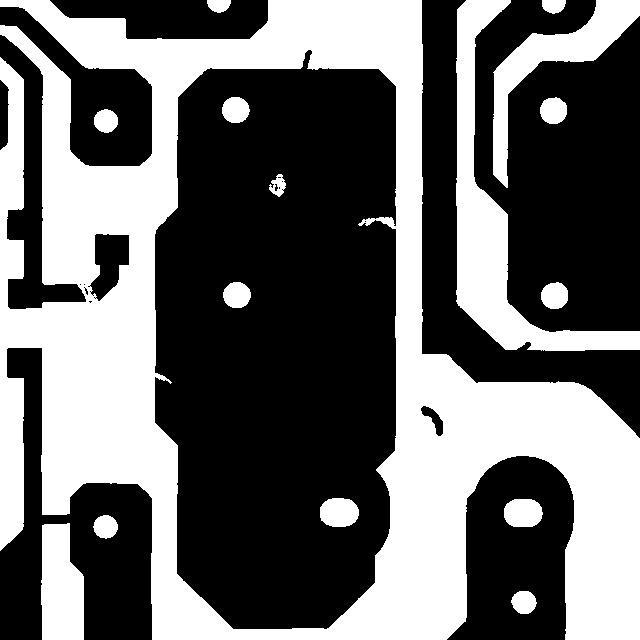copper: (411, 396, 452, 445)
mousebite: (348, 207, 406, 238), (140, 363, 181, 393)
open: (65, 270, 107, 322)
pin-hole: (259, 164, 295, 206)
short: (28, 504, 82, 534)
spur: (291, 40, 321, 81), (506, 332, 540, 365)
